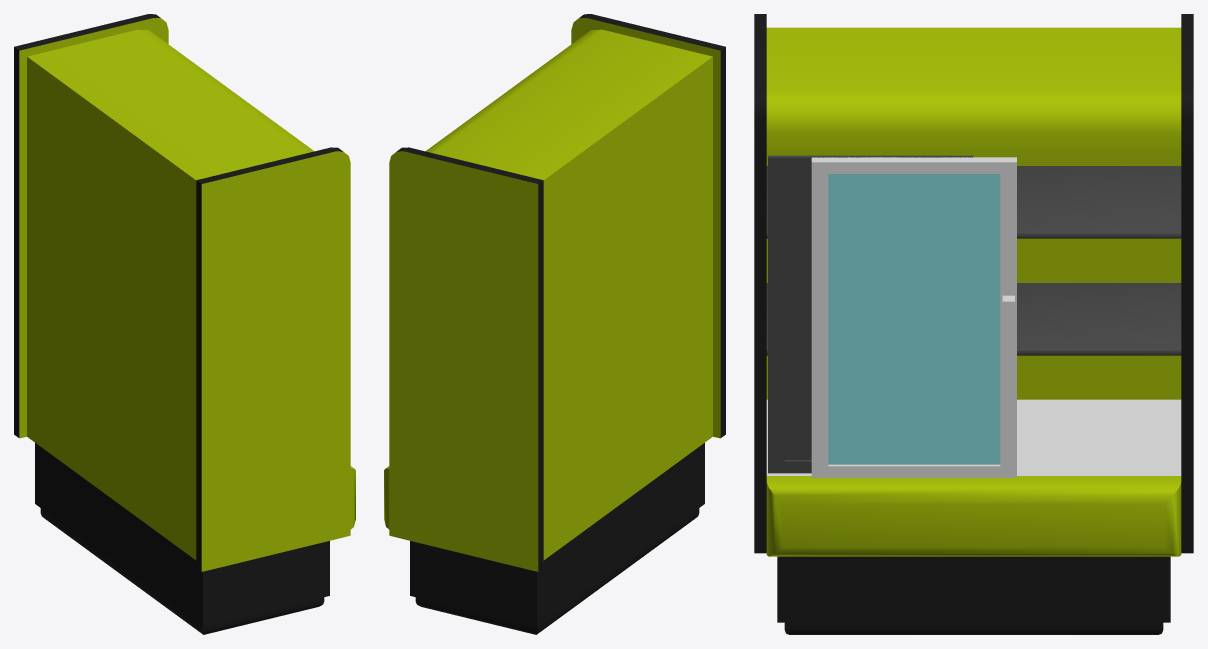
The model's file is Shelf_5.fbx.
3 renders of one model, left to right at view 1: azimuth 30°, elevation 25°; view 2: azimuth 150°, elevation 25°; view 3: azimuth 270°, elevation 25°, orthographic. The views are drawn at different scales.
Parts seen in each view (by area): view 1: Cube.003; view 2: Cube.003; view 3: Cube.003, Cube.004.
Boxes of the visible parts, <box> form: Cube.003: <box>14,14,355,634</box>; Cube.003: <box>384,14,725,634</box>; Cube.003: <box>754,14,1193,634</box>; Cube.004: <box>766,166,1181,355</box>.
Size of the model in its own units: 1.4 by 3.79 by 2.76.
